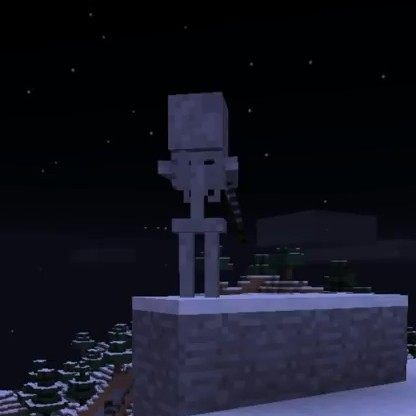skeleton: (155, 90, 246, 297)
